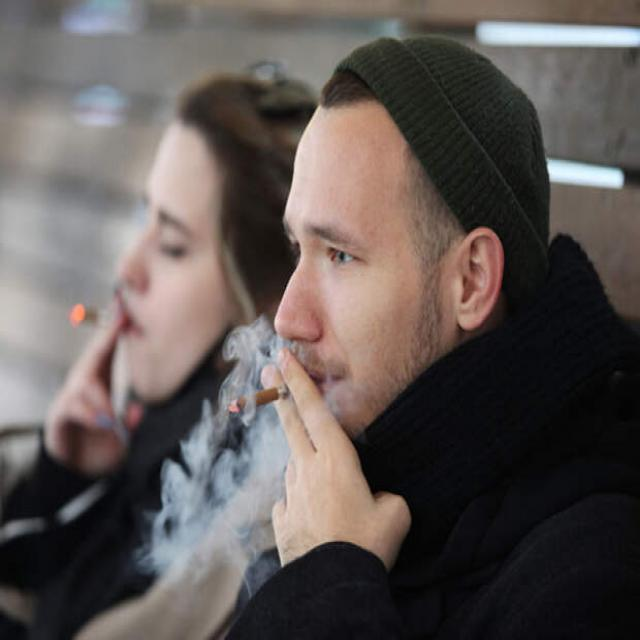cigarette: (224, 381, 300, 418), (66, 296, 127, 336)
